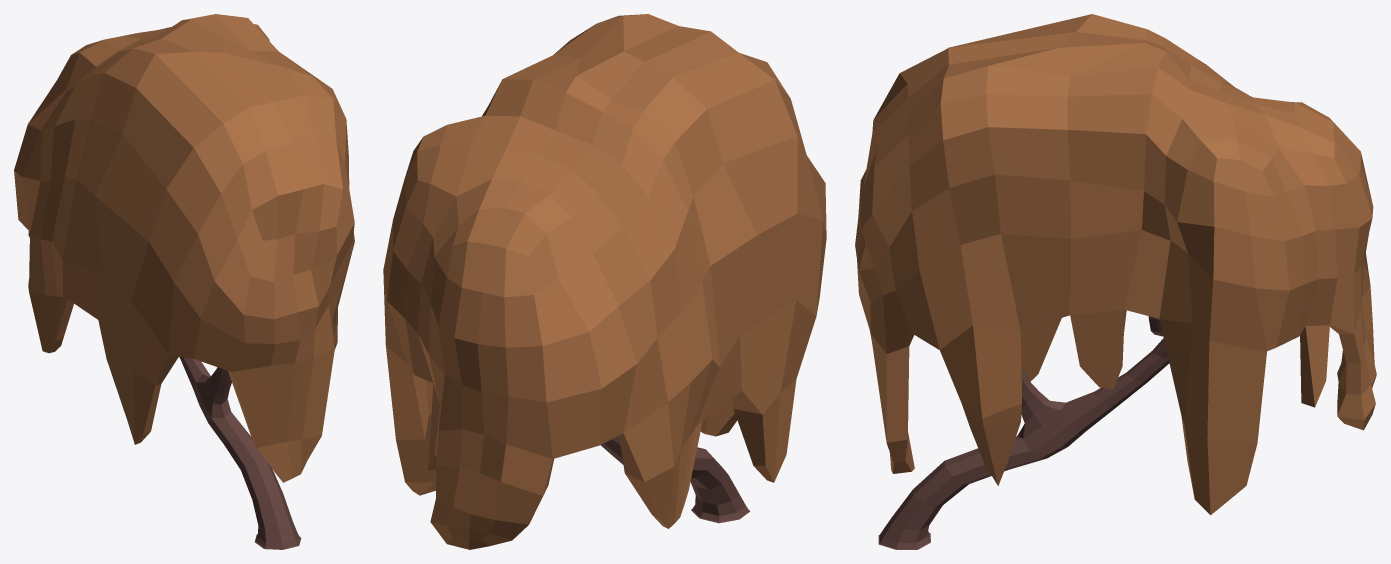
The model's file is Willow_Autumn_2-transformed.glb.
The picture shows the model from 3 angles, left to right: view 1: azimuth 30°, elevation 25°; view 2: azimuth 150°, elevation 25°; view 3: azimuth 270°, elevation 25°; orthographic projection. The views are drawn at different scales.
Visible parts, largest first — view 1: Willow_Autumn_2; view 2: Willow_Autumn_2; view 3: Willow_Autumn_2.
Part boxes in pixels (x1,y1,x2,y2): Willow_Autumn_2: (14,14,354,549); Willow_Autumn_2: (383,14,826,549); Willow_Autumn_2: (855,14,1376,549).
Bounding box in the file's own units: 1.95 × 3.32 × 3.11.
